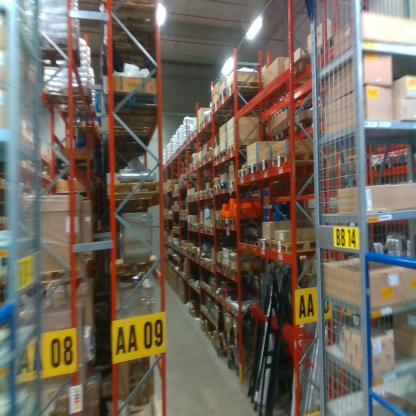pallet: (36, 41, 88, 83), (104, 176, 169, 209), (100, 3, 157, 32), (107, 107, 159, 135), (272, 236, 321, 264), (44, 87, 94, 114), (272, 149, 326, 174), (104, 90, 158, 114), (65, 115, 107, 141), (227, 78, 269, 101), (48, 157, 95, 177), (211, 97, 254, 116), (229, 264, 263, 282), (56, 188, 93, 202), (229, 216, 265, 228), (259, 154, 274, 180), (256, 234, 272, 255), (267, 124, 283, 145), (227, 143, 257, 154), (246, 158, 259, 182), (219, 83, 228, 108), (228, 176, 241, 190), (237, 165, 247, 181), (222, 263, 233, 276), (218, 148, 228, 162), (271, 105, 282, 117), (220, 180, 229, 194), (279, 101, 290, 112), (219, 217, 229, 228), (212, 182, 220, 194), (215, 260, 222, 273), (213, 152, 219, 165), (214, 216, 219, 228)
pallet_truck: (230, 317, 253, 386), (220, 310, 234, 375), (212, 299, 226, 363)
